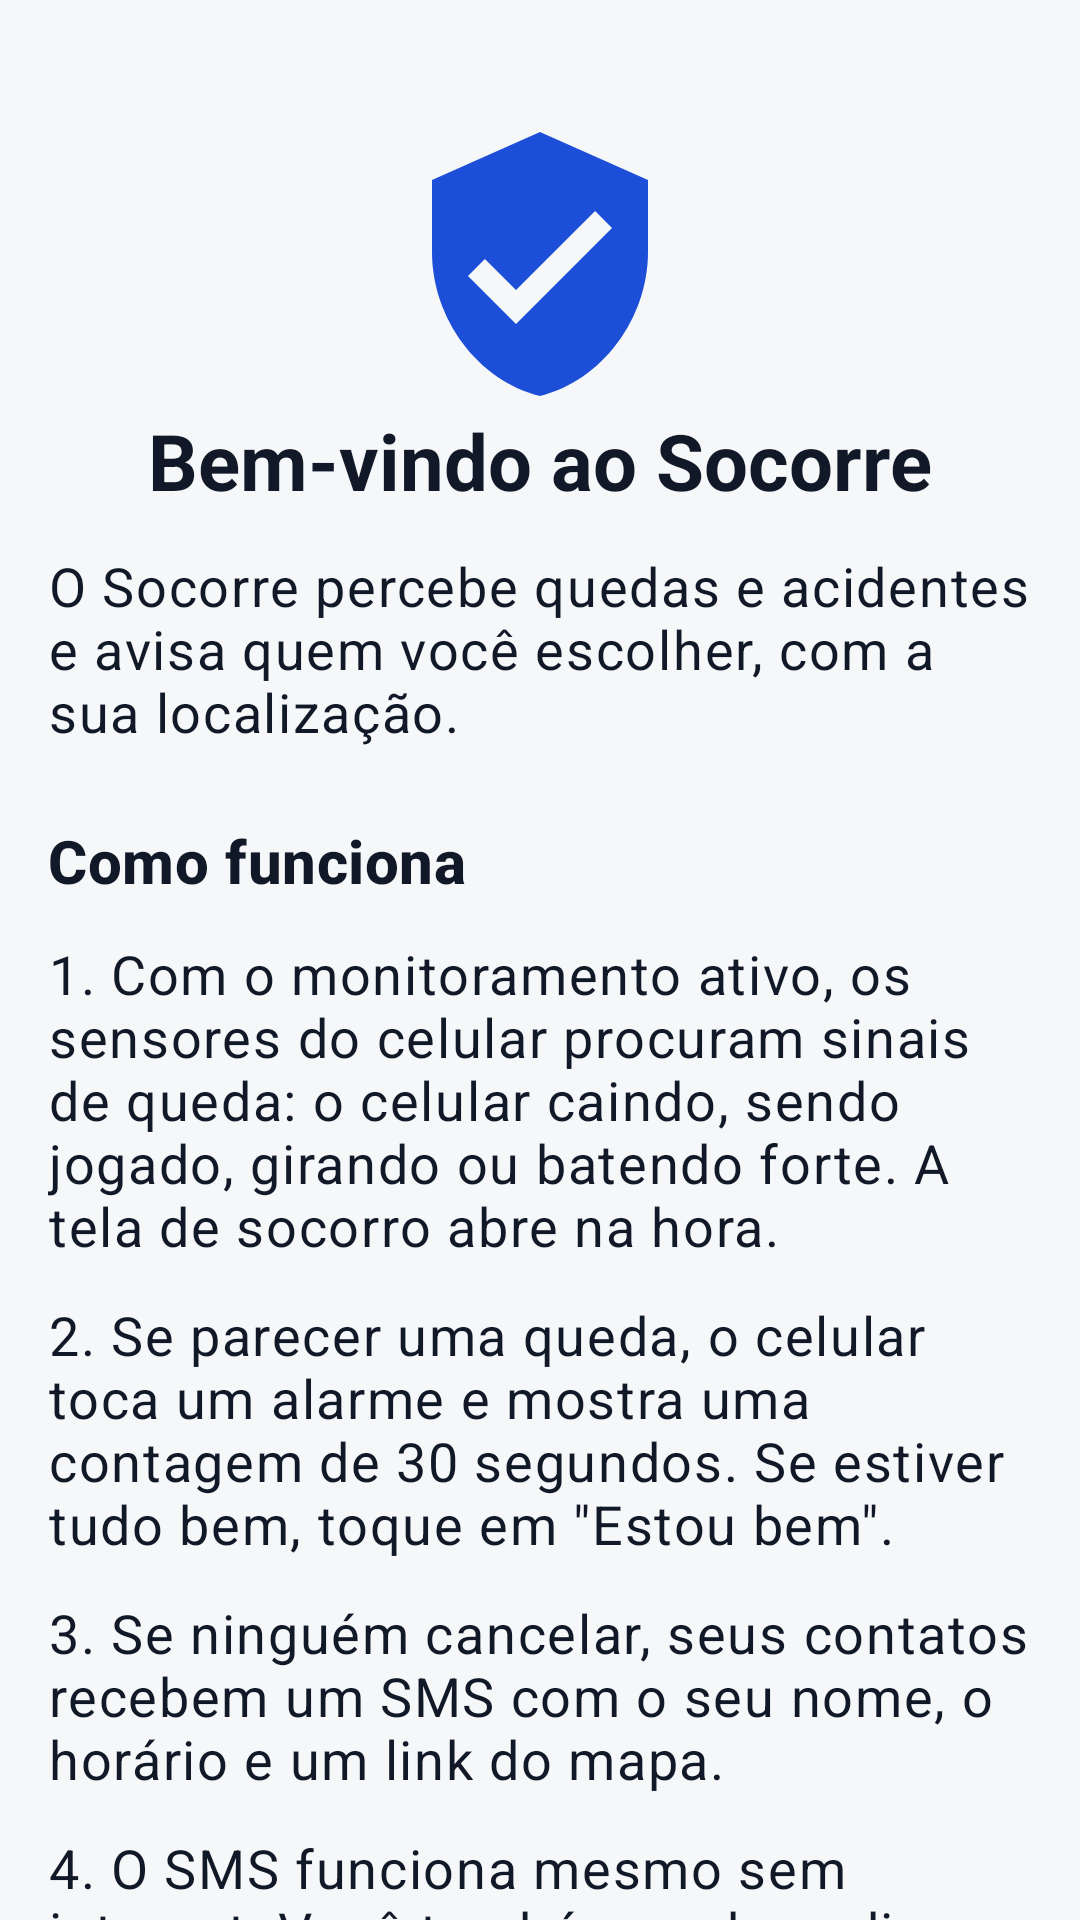

Named icons in this screenshot (1080px x 1920px) and their centers, [x,y]:
escudo: [540,264]
